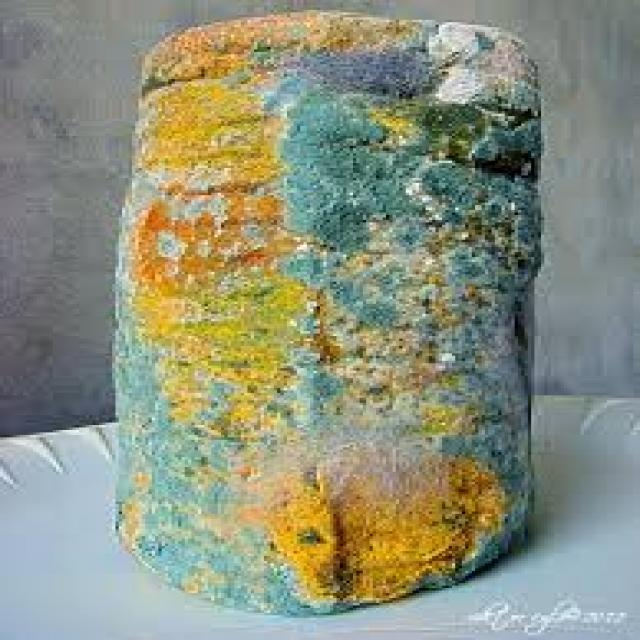food_waste: (115, 10, 538, 613)
